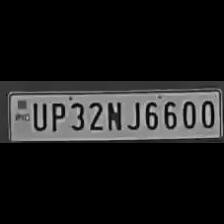0: (178, 98, 196, 130), (198, 97, 216, 128)
2: (86, 99, 104, 131)
3: (66, 99, 84, 131)
6: (140, 98, 158, 130), (160, 98, 178, 130)
J: (125, 98, 141, 132)
N: (104, 98, 122, 132)
P: (48, 100, 64, 132)
U: (29, 99, 47, 131)
